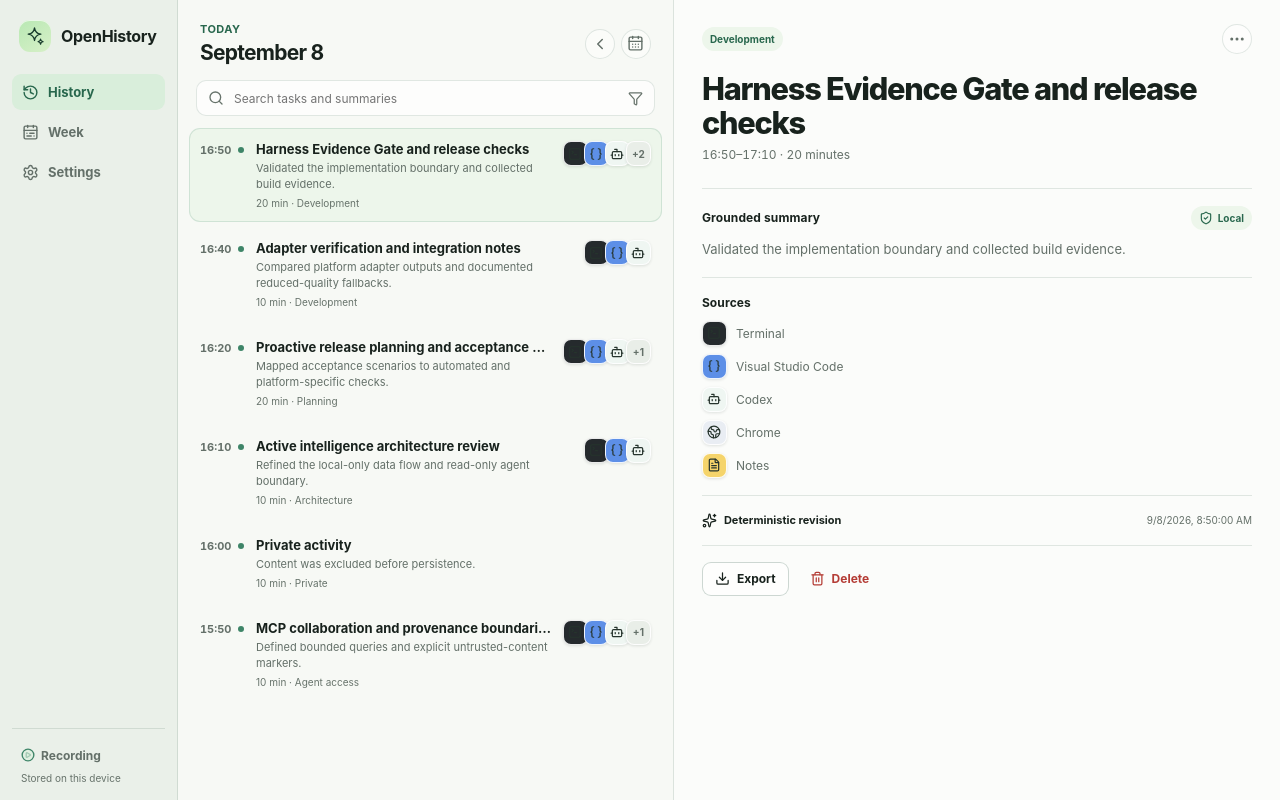
Test case: WeekPane › distinguishes an empty week from a week outside the retention window
Click the button "Week" at (88, 132), box 12,114 -> 165,150
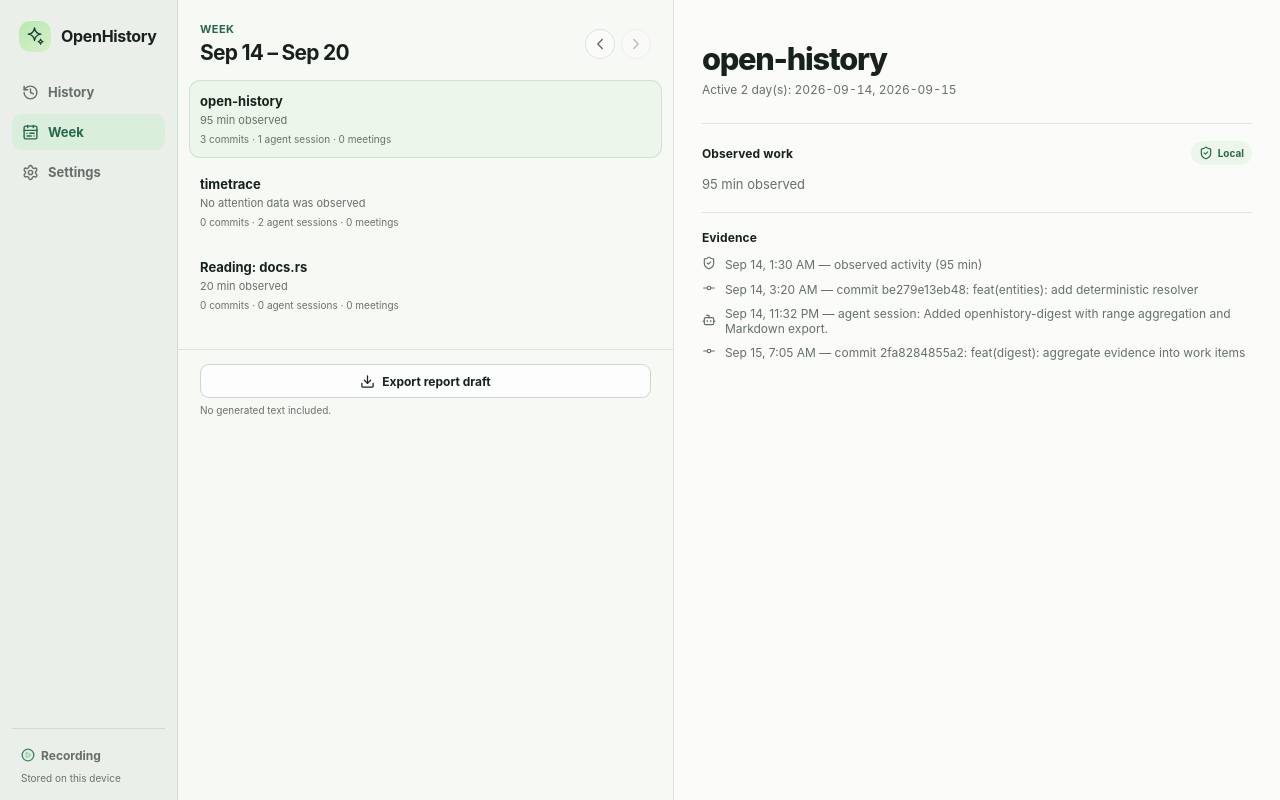
Click the button named "Previous week" at (600, 44), box 585,29 -> 615,59
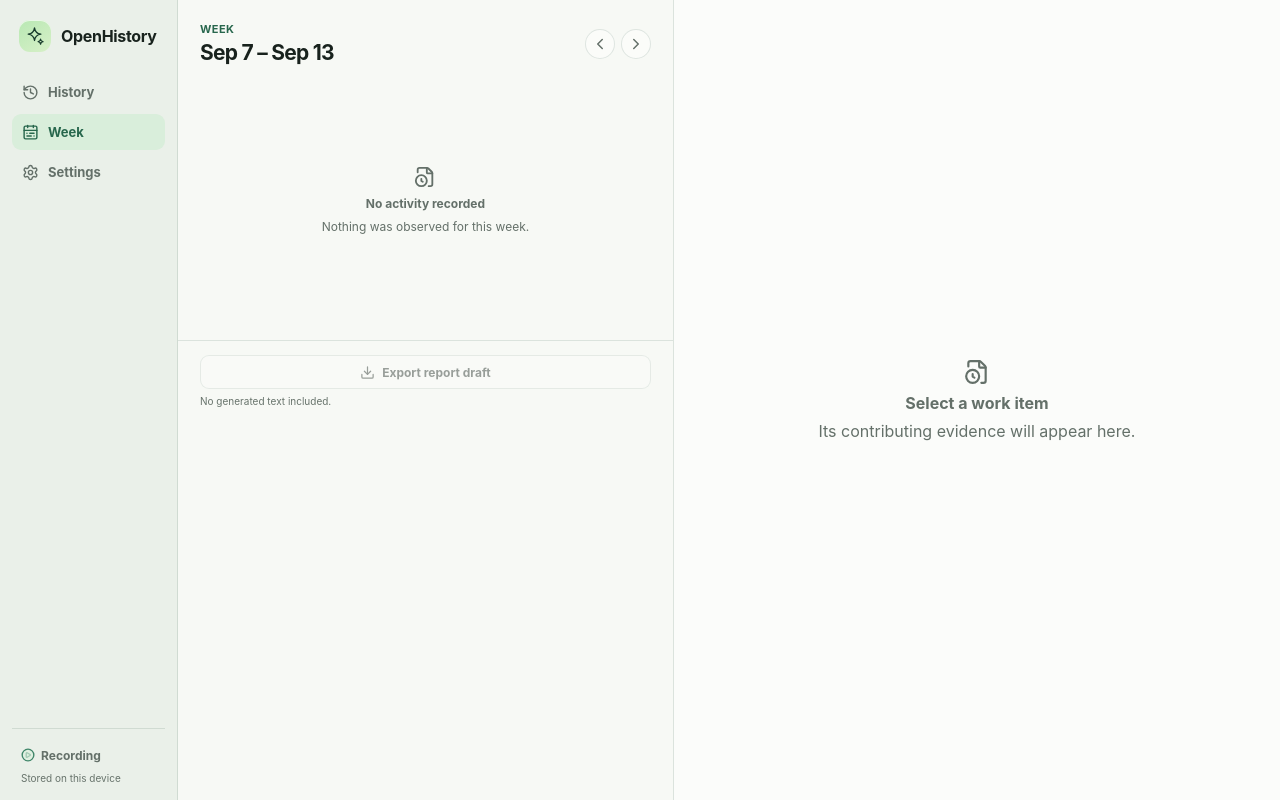
Expected: the text "No activity recorded" is shown, 366,196 -> 485,211
Click the button named "Previous week" at (600, 44), box 585,29 -> 615,59
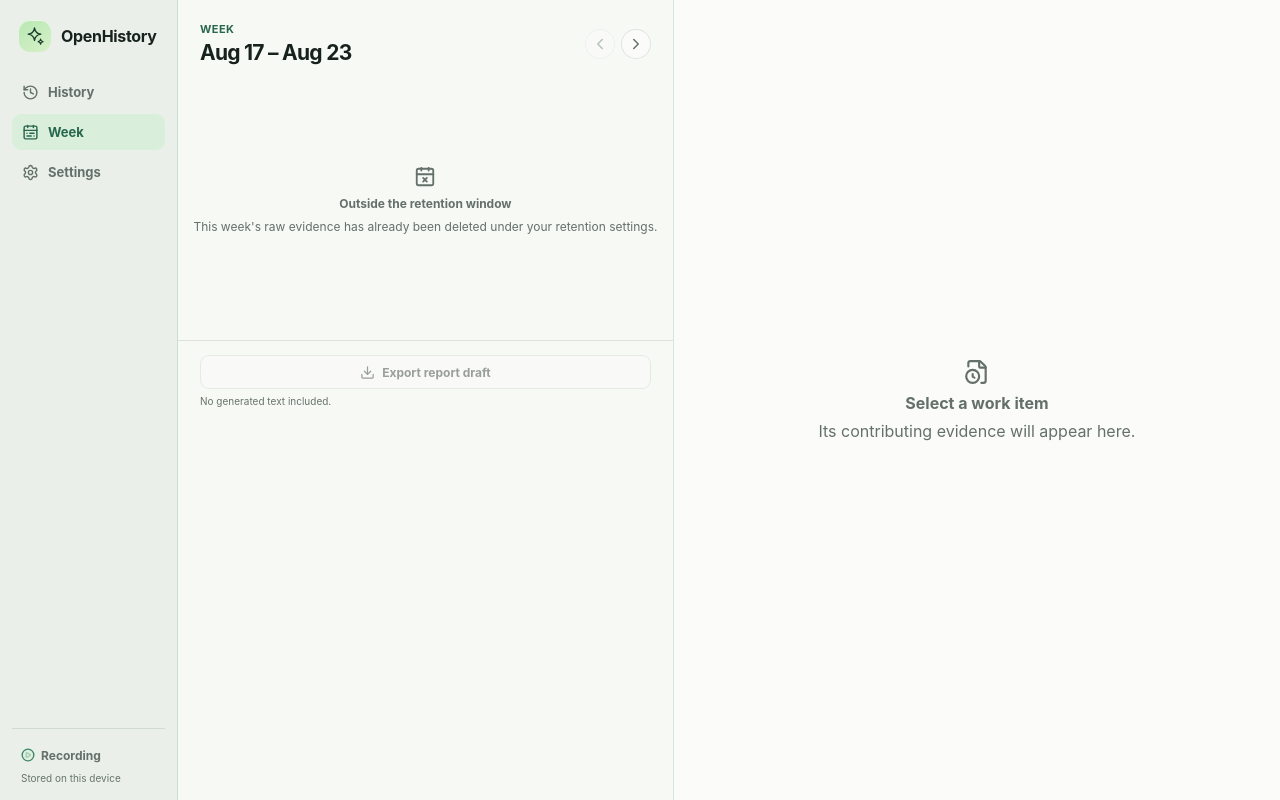
Expected: the text "Outside the retention window" is shown, 339,196 -> 512,211
Expected: the text "No activity recorded" is gone
